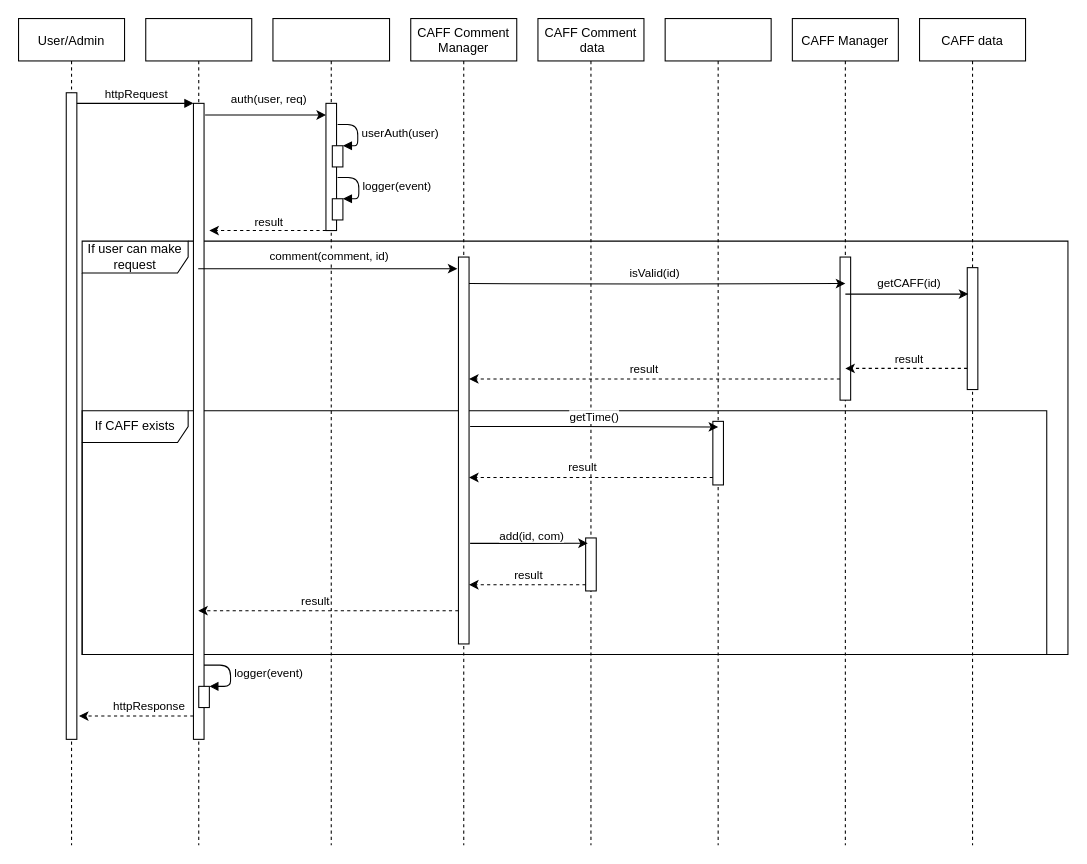
Image size: 1087x864. Some labels were removed from this diagram. The shapes that lost their labels are listed below. From the top down, each one's box as (x1, y1, x2, y2) in pixels, then its label:
(145, 17, 252, 845): WebServer Controller
(272, 17, 390, 845): Authenticator
(664, 17, 771, 845): Time
